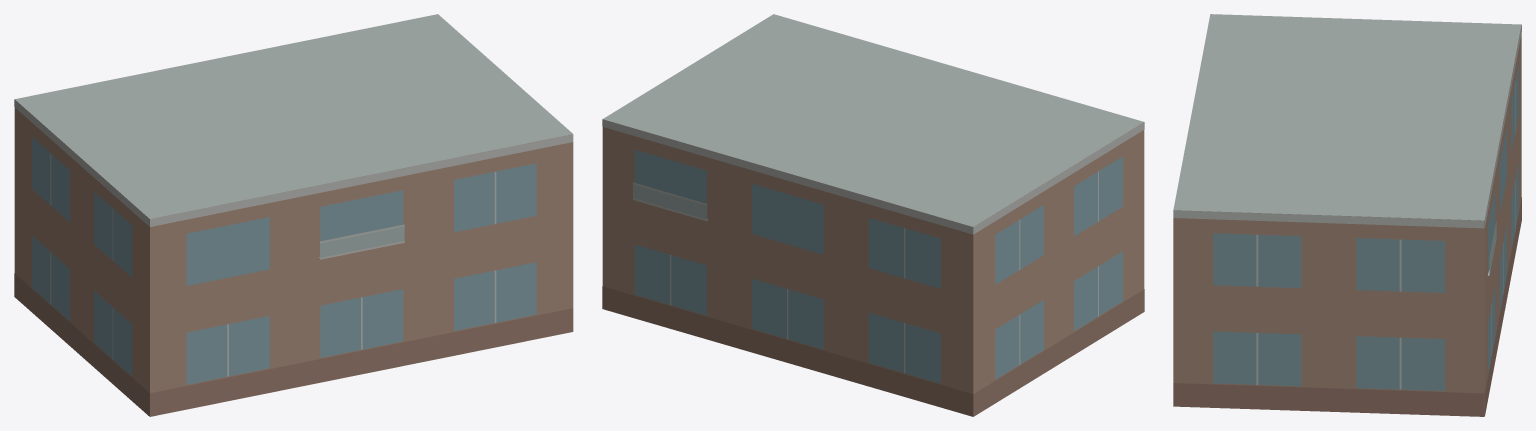
The model's file is survey-upis-32990751.glb.
3 views of the same model, side by side, from view 1: azimuth 30°, elevation 25°; view 2: azimuth 150°, elevation 25°; view 3: azimuth 270°, elevation 25° (orthographic). The views are drawn at different scales.
Parts seen in each view (by area): view 1: survey-upis-32990751.tmp; view 2: survey-upis-32990751.tmp; view 3: survey-upis-32990751.tmp.
Part boxes in pixels (x1=…): survey-upis-32990751.tmp: x1=14, y1=14, x2=573, y2=416; survey-upis-32990751.tmp: x1=602, y1=14, x2=1144, y2=416; survey-upis-32990751.tmp: x1=1173, y1=14, x2=1521, y2=416.
Bounding box in the file's own units: 13.78 × 6.1 × 9.82.
